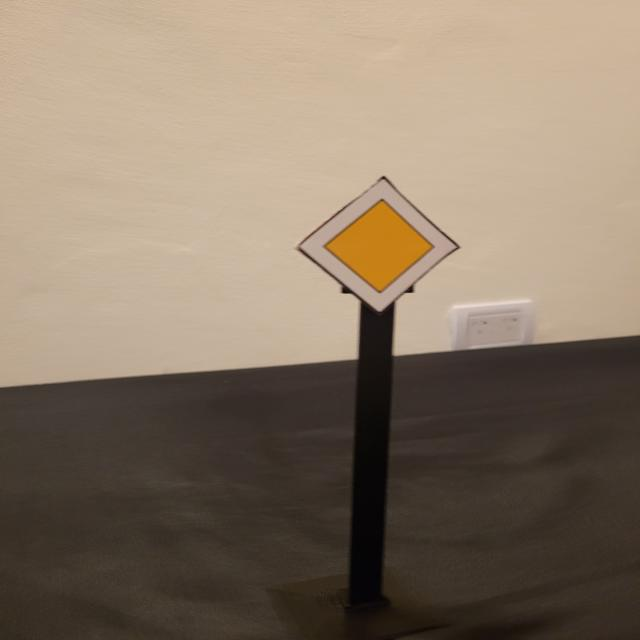priority: (295, 175, 465, 315)
